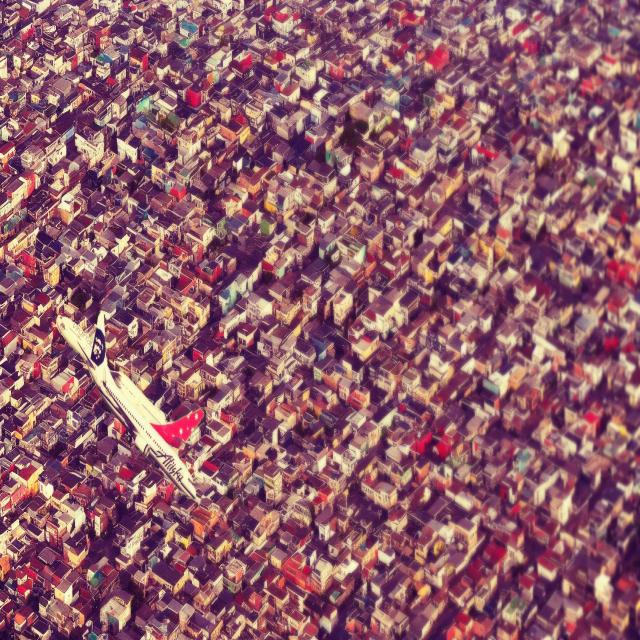airplane: (55, 309, 205, 507)
